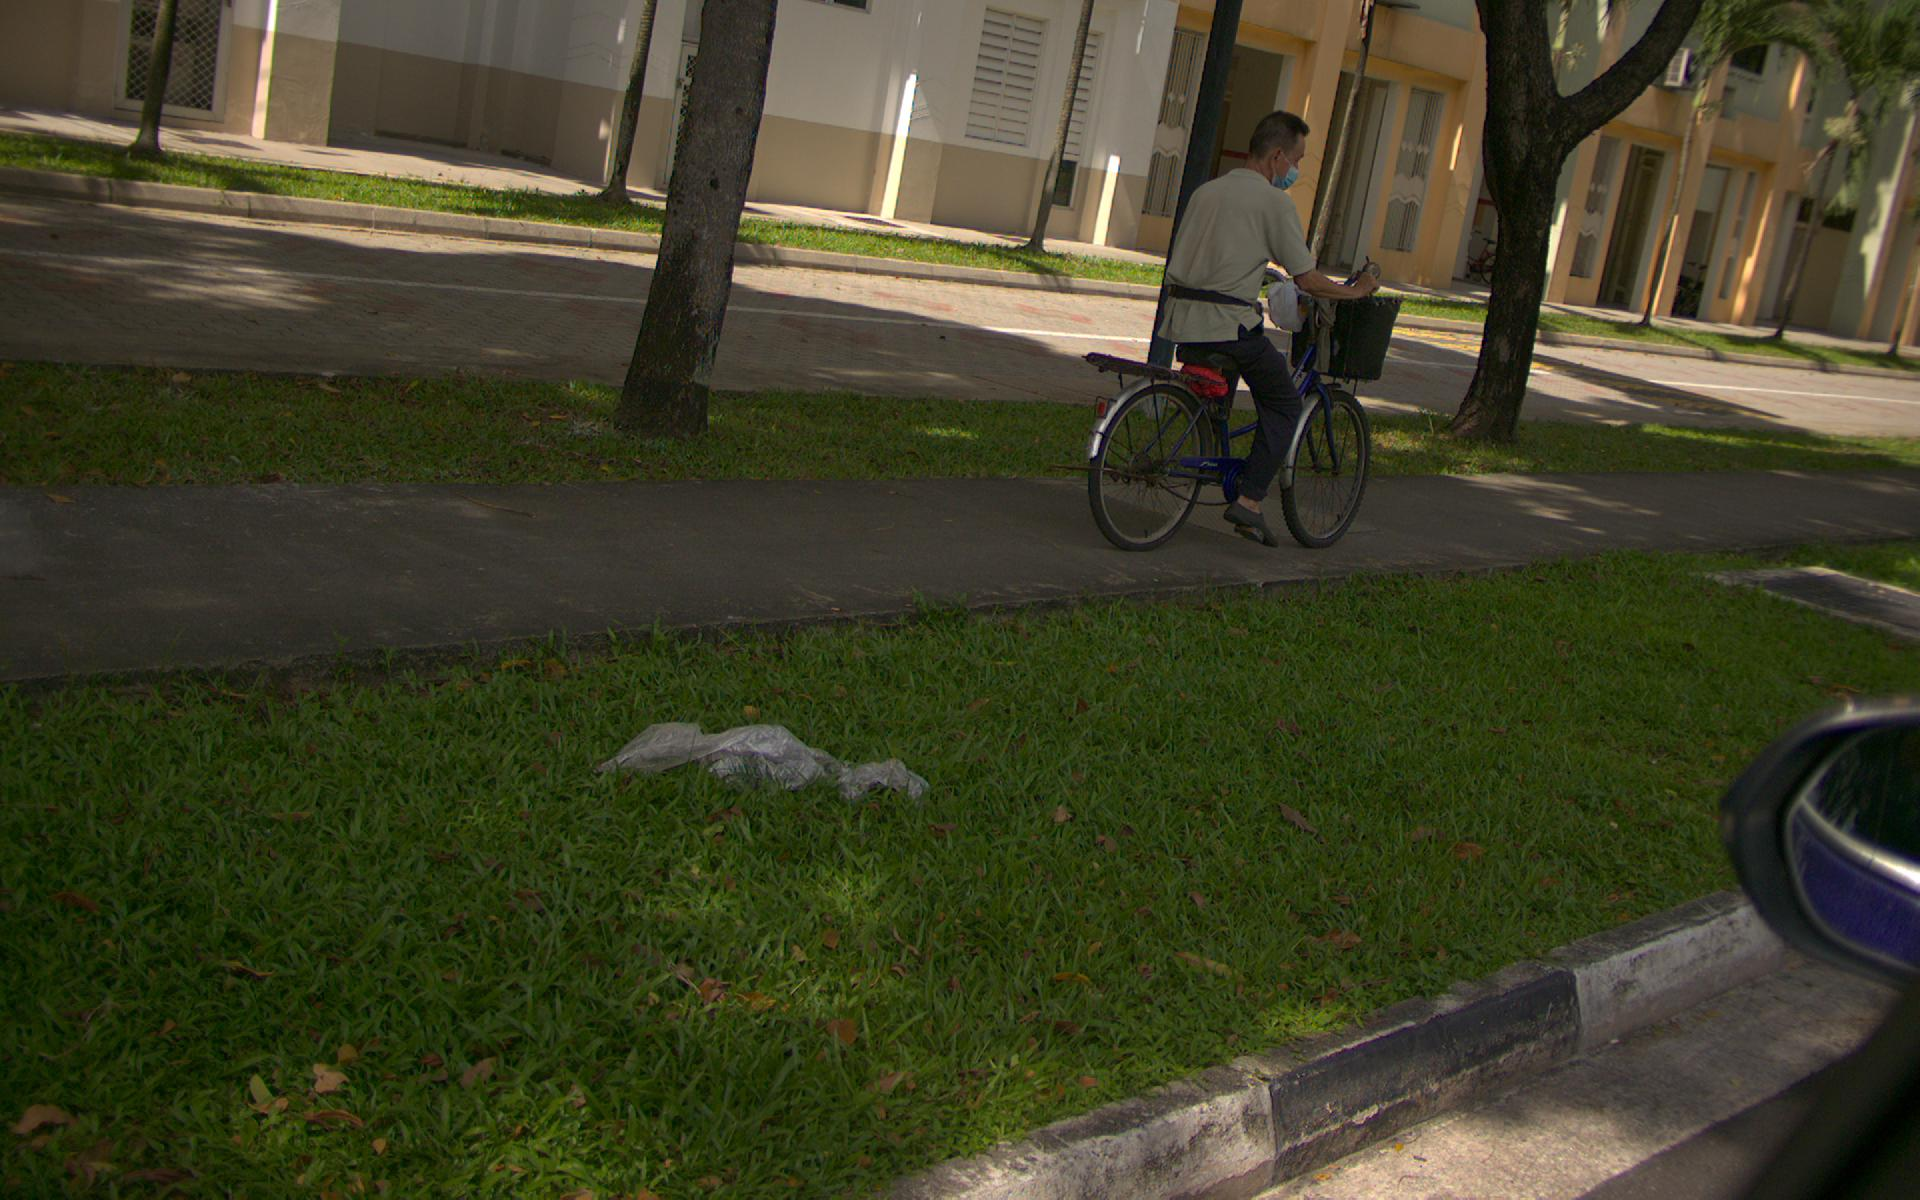pathway_low: (6, 488, 1744, 552), (4, 218, 458, 359)
road_turf_low: (21, 697, 1117, 1112), (12, 368, 617, 473), (730, 397, 1143, 484)
